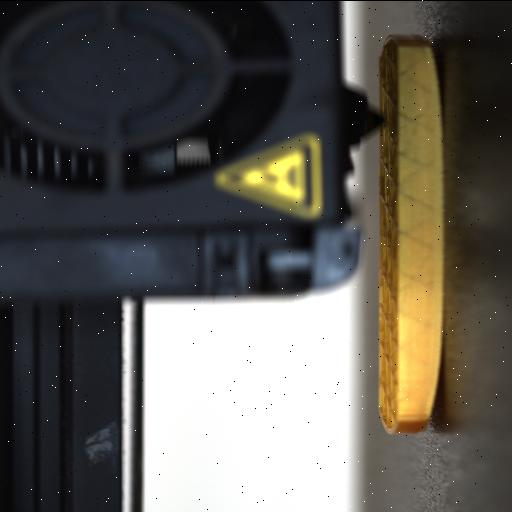warp: (410, 382, 448, 446)
